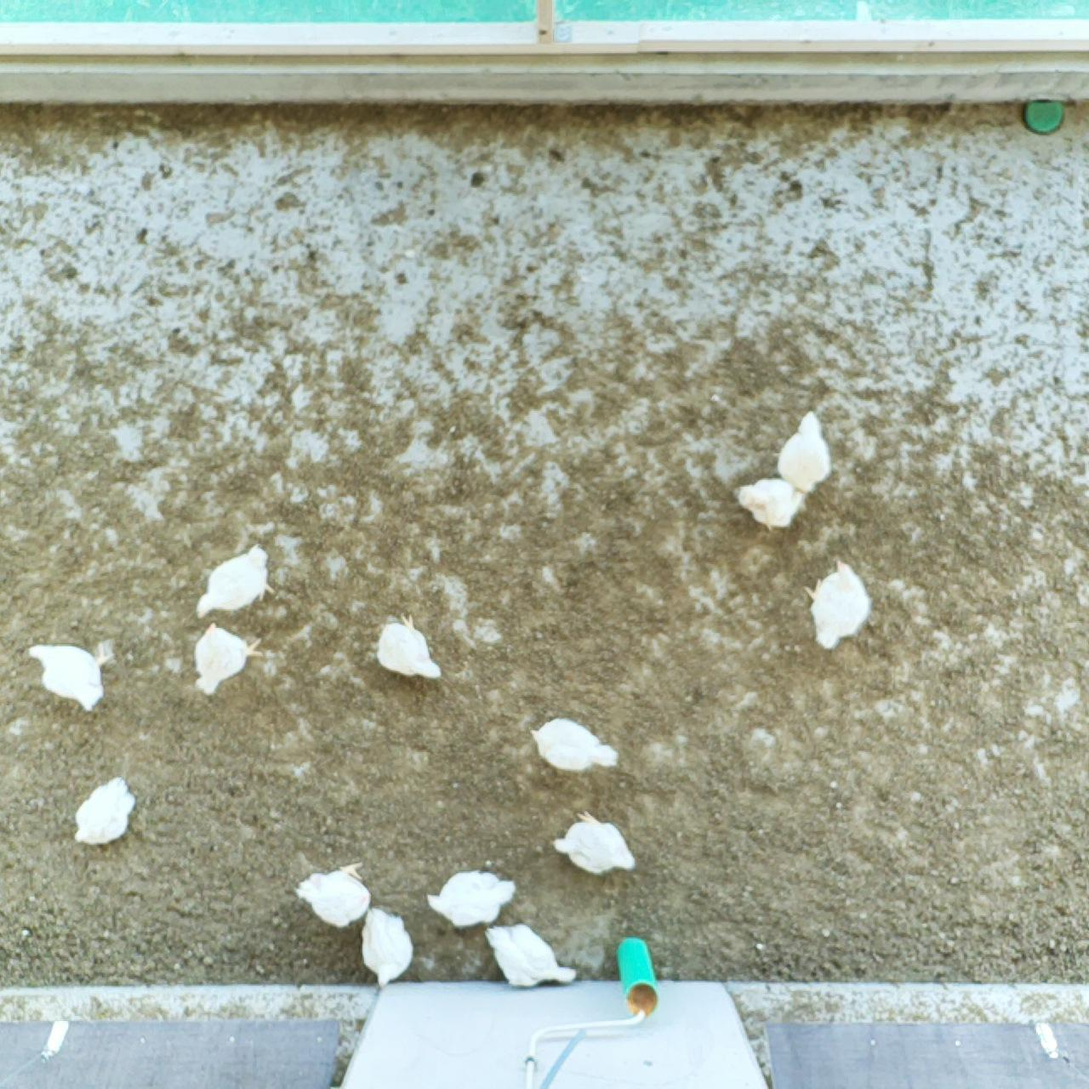chicken: (25, 637, 118, 717), (479, 919, 580, 990), (801, 557, 875, 653), (548, 805, 640, 880), (192, 541, 277, 620), (424, 866, 518, 931), (294, 857, 375, 931), (528, 712, 621, 775), (191, 622, 265, 697), (776, 408, 837, 497), (358, 904, 417, 989), (374, 610, 443, 681), (71, 775, 135, 847), (733, 477, 806, 536)
